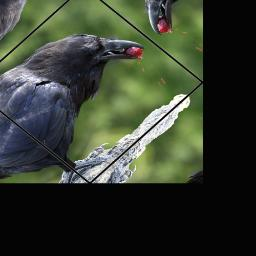Crow: (0, 0, 196, 182)
